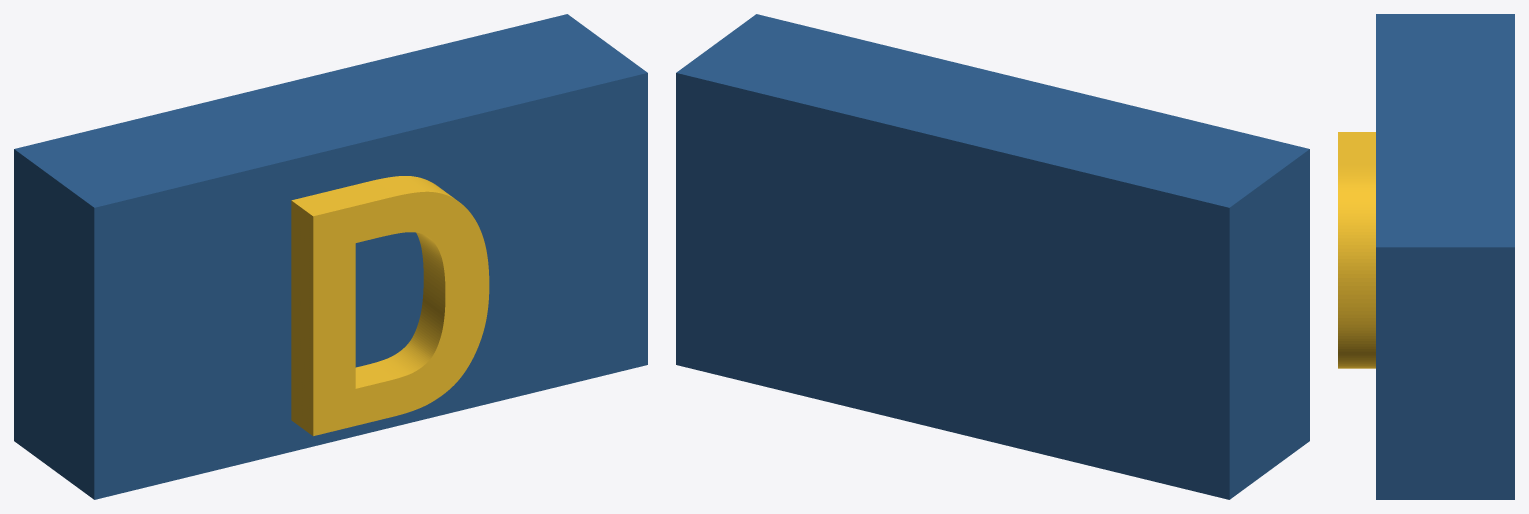
The picture shows the model from 3 angles, left to right: view 1: azimuth 30°, elevation 25°; view 2: azimuth 150°, elevation 25°; view 3: azimuth 270°, elevation 25°; orthographic projection. The views are drawn at different scales.
Parts seen in each view (by area): view 1: Cube.001, Text.006; view 2: Cube.001; view 3: Cube.001, Text.006.
Boxes of the visible parts, x1,y1,x2,y2 form: Cube.001: (14, 14, 647, 499); Text.006: (291, 176, 489, 436); Cube.001: (676, 14, 1309, 499); Cube.001: (1376, 14, 1514, 499); Text.006: (1338, 132, 1375, 368).
Size of the model in its own units: 1.32 by 0.6639 by 0.421.
